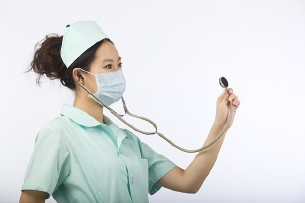Mask: (83, 54, 136, 107)
